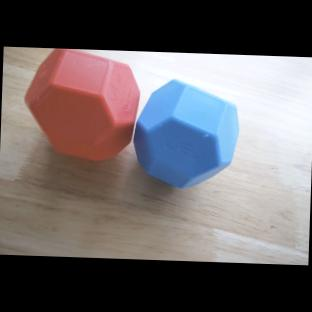V5_BLUE: (138, 77, 239, 191)
V5_RED: (27, 49, 141, 166)
